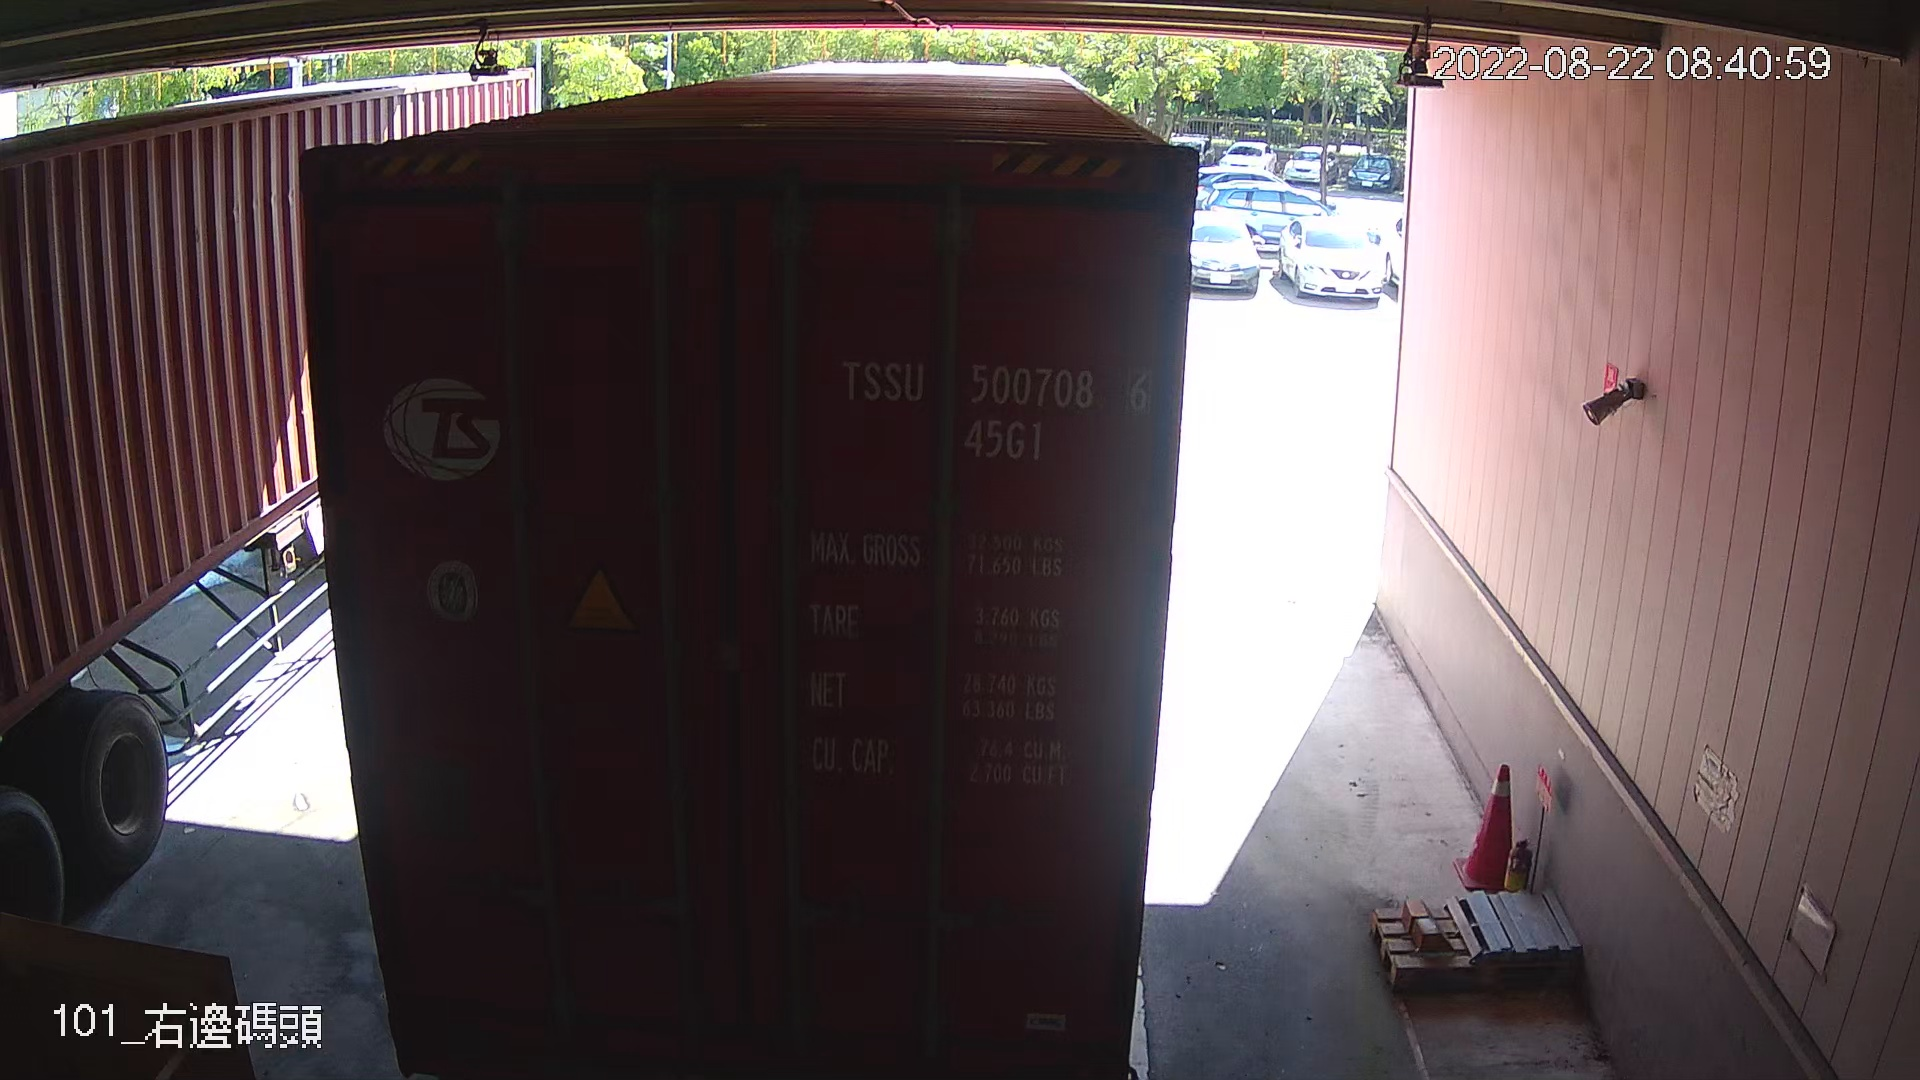container: (820, 342, 1159, 465)
